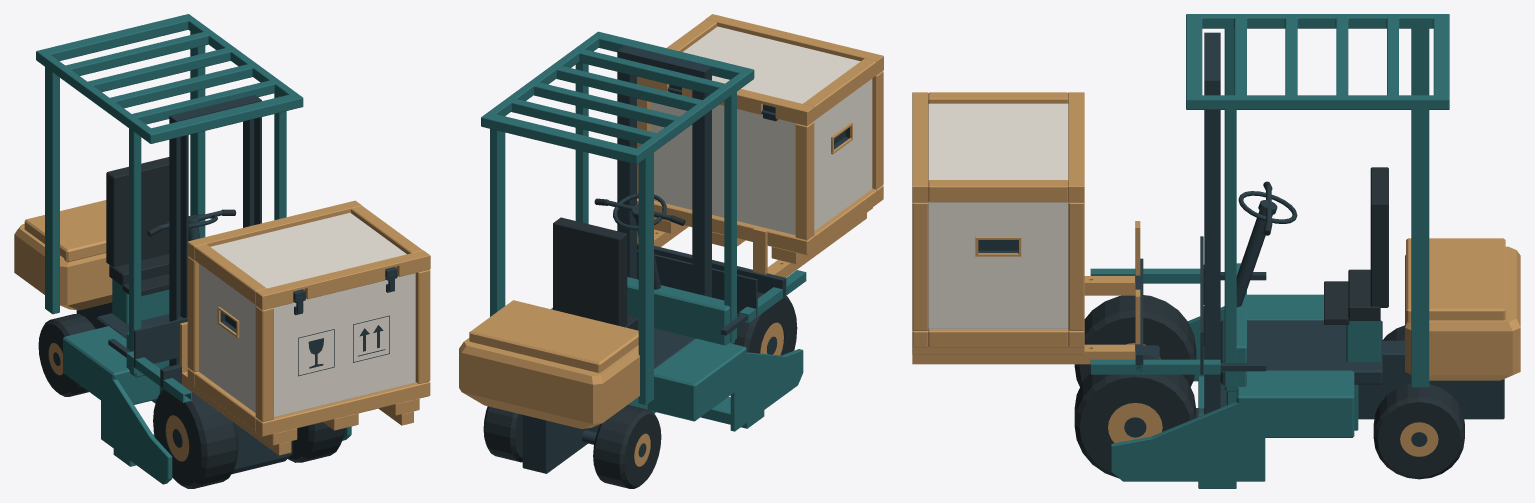
Rendered from forklift-loaded-fragile-crate.glb.
3 views of the same model, side by side, from view 1: azimuth 30°, elevation 25°; view 2: azimuth 150°, elevation 25°; view 3: azimuth 270°, elevation 25° (orthographic). The views are drawn at different scales.
Visible parts, largest first — view 1: forklift-loaded-fragile-crate__batch_01, forklift-loaded-fragile-crate__batch_25, forklift-loaded-fragile-crate__batch_24, forklift-loaded-fragile-crate__batch_00, forklift-loaded-fragile-crate__batch_02, forklift-loaded-fragile-crate__batch_23, forklift-loaded-fragile-crate__batch_28, forklift-loaded-fragile-crate__batch_19, forklift-loaded-fragile-crate__batch_11, forklift-loaded-fragile-crate__batch_03, forklift-loaded-fragile-crate__batch_22, forklift-loaded-fragile-crate__batch_05 (+5 smaller); view 2: forklift-loaded-fragile-crate__batch_01, forklift-loaded-fragile-crate__batch_02, forklift-loaded-fragile-crate__batch_25, forklift-loaded-fragile-crate__batch_24, forklift-loaded-fragile-crate__batch_00, forklift-loaded-fragile-crate__batch_23, forklift-loaded-fragile-crate__batch_28, forklift-loaded-fragile-crate__batch_11, forklift-loaded-fragile-crate__batch_03, forklift-loaded-fragile-crate__batch_19, forklift-loaded-fragile-crate__batch_14, forklift-loaded-fragile-crate__batch_05 (+4 smaller); view 3: forklift-loaded-fragile-crate__batch_01, forklift-loaded-fragile-crate__batch_24, forklift-loaded-fragile-crate__batch_28, forklift-loaded-fragile-crate__batch_00, forklift-loaded-fragile-crate__batch_02, forklift-loaded-fragile-crate__batch_25, forklift-loaded-fragile-crate__batch_22, forklift-loaded-fragile-crate__batch_14, forklift-loaded-fragile-crate__batch_19, forklift-loaded-fragile-crate__batch_23, forklift-loaded-fragile-crate__batch_08, forklift-loaded-fragile-crate__batch_06 (+5 smaller).
Boxes of the visible parts, x1=… form: forklift-loaded-fragile-crate__batch_01: x1=36, y1=14, x2=351, y2=484; forklift-loaded-fragile-crate__batch_25: x1=210, y1=213, x2=415, y2=417; forklift-loaded-fragile-crate__batch_24: x1=187, y1=200, x2=430, y2=445; forklift-loaded-fragile-crate__batch_00: x1=76, y1=95, x2=292, y2=474; forklift-loaded-fragile-crate__batch_02: x1=14, y1=200, x2=112, y2=310; forklift-loaded-fragile-crate__batch_23: x1=106, y1=157, x2=169, y2=295; forklift-loaded-fragile-crate__batch_28: x1=199, y1=264, x2=255, y2=412; forklift-loaded-fragile-crate__batch_19: x1=153, y1=385, x2=238, y2=488; forklift-loaded-fragile-crate__batch_11: x1=38, y1=314, x2=95, y2=396; forklift-loaded-fragile-crate__batch_03: x1=134, y1=316, x2=187, y2=367; forklift-loaded-fragile-crate__batch_22: x1=288, y1=422, x2=344, y2=462; forklift-loaded-fragile-crate__batch_05: x1=180, y1=322, x2=291, y2=455; forklift-loaded-fragile-crate__batch_01: x1=481, y1=31, x2=803, y2=431; forklift-loaded-fragile-crate__batch_02: x1=459, y1=300, x2=639, y2=428; forklift-loaded-fragile-crate__batch_25: x1=651, y1=26, x2=860, y2=235; forklift-loaded-fragile-crate__batch_24: x1=637, y1=14, x2=883, y2=264; forklift-loaded-fragile-crate__batch_00: x1=522, y1=45, x2=711, y2=473; forklift-loaded-fragile-crate__batch_23: x1=553, y1=217, x2=638, y2=330; forklift-loaded-fragile-crate__batch_28: x1=813, y1=78, x2=872, y2=230; forklift-loaded-fragile-crate__batch_11: x1=593, y1=405, x2=661, y2=488; forklift-loaded-fragile-crate__batch_03: x1=637, y1=250, x2=757, y2=317; forklift-loaded-fragile-crate__batch_19: x1=733, y1=292, x2=797, y2=355; forklift-loaded-fragile-crate__batch_14: x1=483, y1=406, x2=522, y2=462; forklift-loaded-fragile-crate__batch_05: x1=753, y1=213, x2=866, y2=277; forklift-loaded-fragile-crate__batch_01: x1=1111, y1=14, x2=1449, y2=488; forklift-loaded-fragile-crate__batch_24: x1=912, y1=92, x2=1084, y2=354; forklift-loaded-fragile-crate__batch_28: x1=928, y1=202, x2=1068, y2=328; forklift-loaded-fragile-crate__batch_00: x1=1143, y1=32, x2=1504, y2=419; forklift-loaded-fragile-crate__batch_02: x1=1405, y1=238, x2=1520, y2=380; forklift-loaded-fragile-crate__batch_25: x1=928, y1=103, x2=1068, y2=180; forklift-loaded-fragile-crate__batch_22: x1=1074, y1=355, x2=1196, y2=478; forklift-loaded-fragile-crate__batch_14: x1=1373, y1=384, x2=1464, y2=479; forklift-loaded-fragile-crate__batch_19: x1=1074, y1=295, x2=1196, y2=386; forklift-loaded-fragile-crate__batch_23: x1=1324, y1=167, x2=1388, y2=324; forklift-loaded-fragile-crate__batch_08: x1=1090, y1=268, x2=1220, y2=374; forklift-loaded-fragile-crate__batch_06: x1=912, y1=289, x2=1140, y2=364.
Bounding box in the file's own units: 1.2 × 2.1 × 3.
